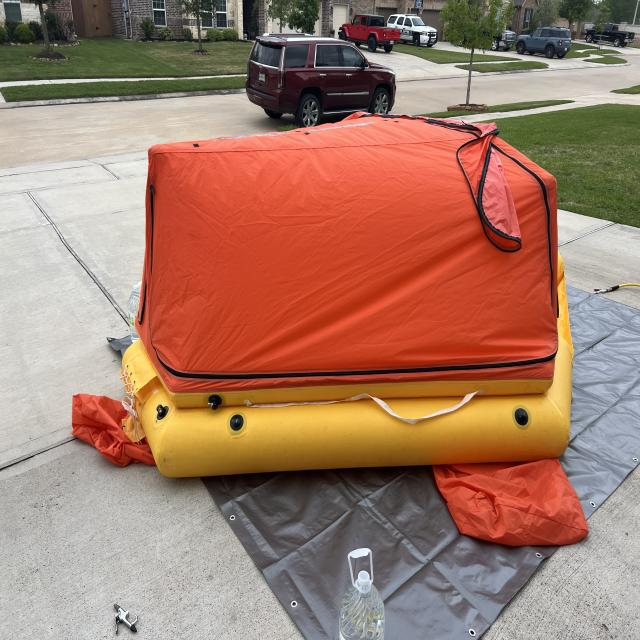Multi-person_life_raft: (72, 112, 587, 546)
